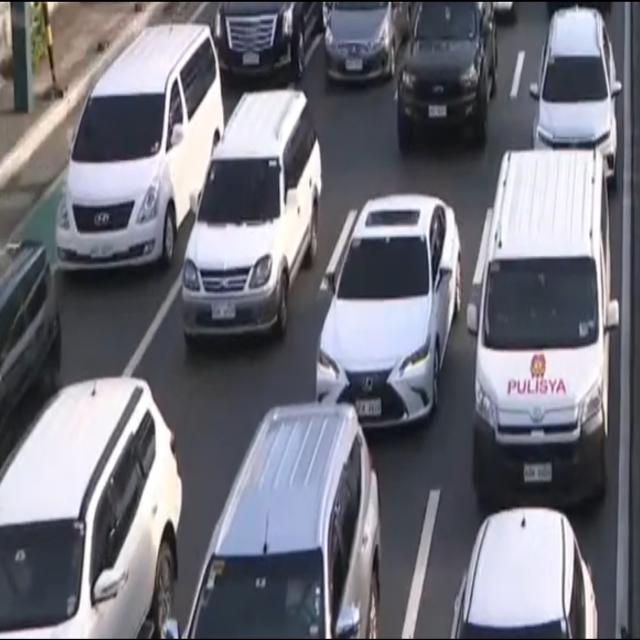SUV: (157, 402, 390, 640), (0, 373, 186, 640), (175, 76, 326, 357), (441, 498, 609, 640), (525, 0, 624, 188), (392, 0, 503, 155), (209, 0, 335, 87)
Sedan: (310, 188, 464, 435), (320, 0, 416, 94)
Van: (456, 144, 616, 518), (51, 16, 228, 282)
